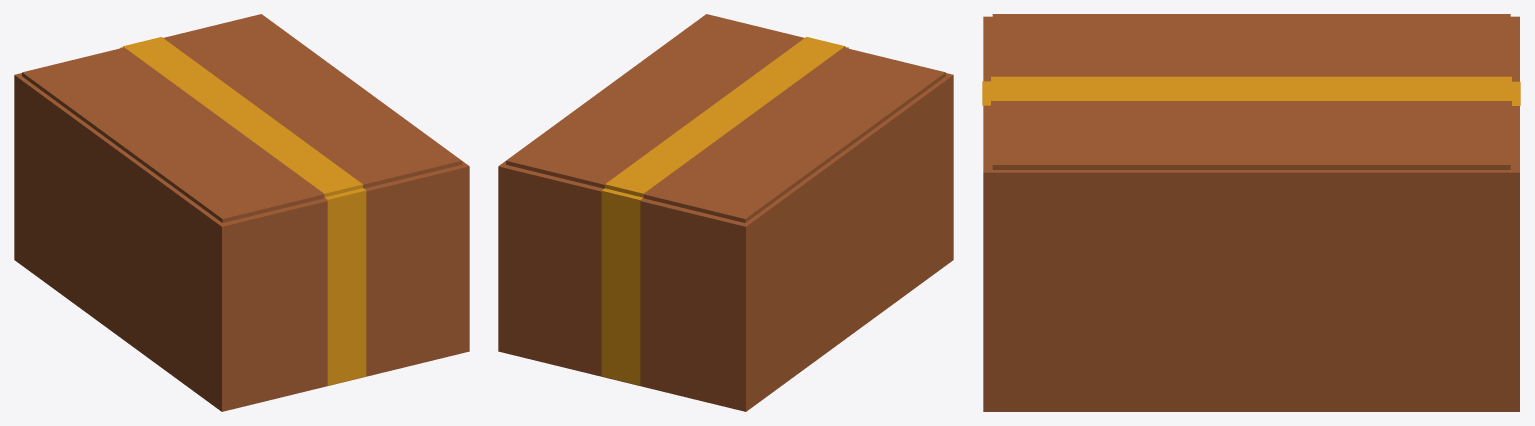
File: kutuiki.fbx
3 views of the same model, side by side, from view 1: azimuth 30°, elevation 25°; view 2: azimuth 150°, elevation 25°; view 3: azimuth 270°, elevation 25° (orthographic). The views are drawn at different scales.
Parts seen in each view (by area): view 1: Cube, Plane; view 2: Cube, Plane; view 3: Cube, Plane.
Part boxes in pixels (left/top/right/bottom): Cube: left=14, top=14, right=469, bottom=411; Plane: left=119, top=37, right=366, bottom=385; Cube: left=498, top=14, right=953, bottom=411; Plane: left=601, top=37, right=848, bottom=385; Cube: left=983, top=14, right=1519, bottom=411; Plane: left=982, top=76, right=1520, bottom=105.
Bounding box in the file's own units: 192 × 141 × 279.
